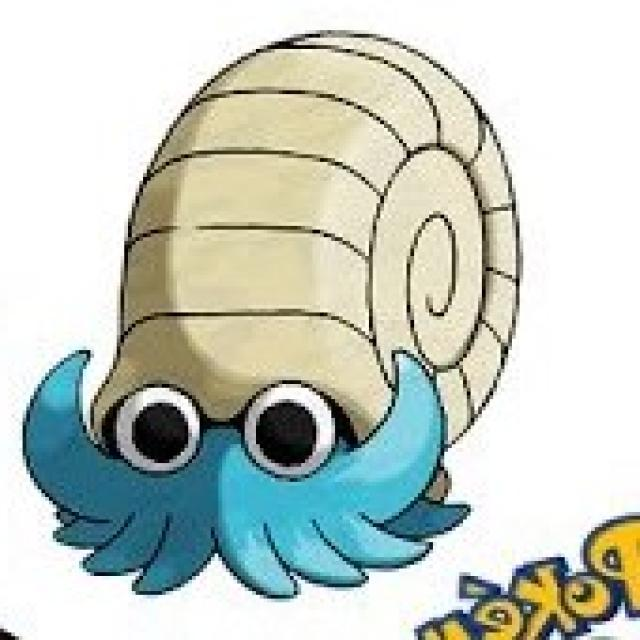Omanyte: (77, 33, 525, 576)
